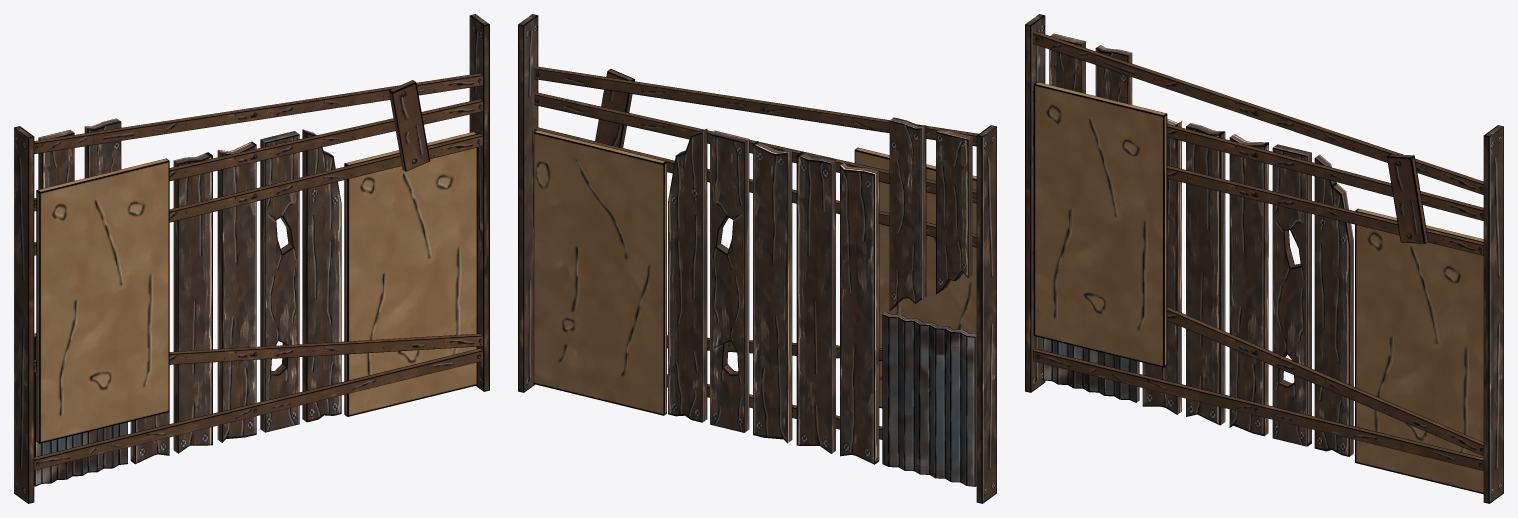
The model's file is wall_05.fbx.
3 views of the same model, side by side, from view 1: azimuth 30°, elevation 25°; view 2: azimuth 150°, elevation 25°; view 3: azimuth 330°, elevation 25° (orthographic).
Parts seen in each view (by area): view 1: Junk_Wall_05; view 2: Junk_Wall_05; view 3: Junk_Wall_05.
Boxes of the visible parts, box(x1,y1,x2,y2) form: Junk_Wall_05: box(14, 14, 489, 503); Junk_Wall_05: box(518, 14, 996, 503); Junk_Wall_05: box(1025, 14, 1503, 503).
Bounding box in the file's own units: 489 × 370 × 30.41.
1 material, 1 textured.
